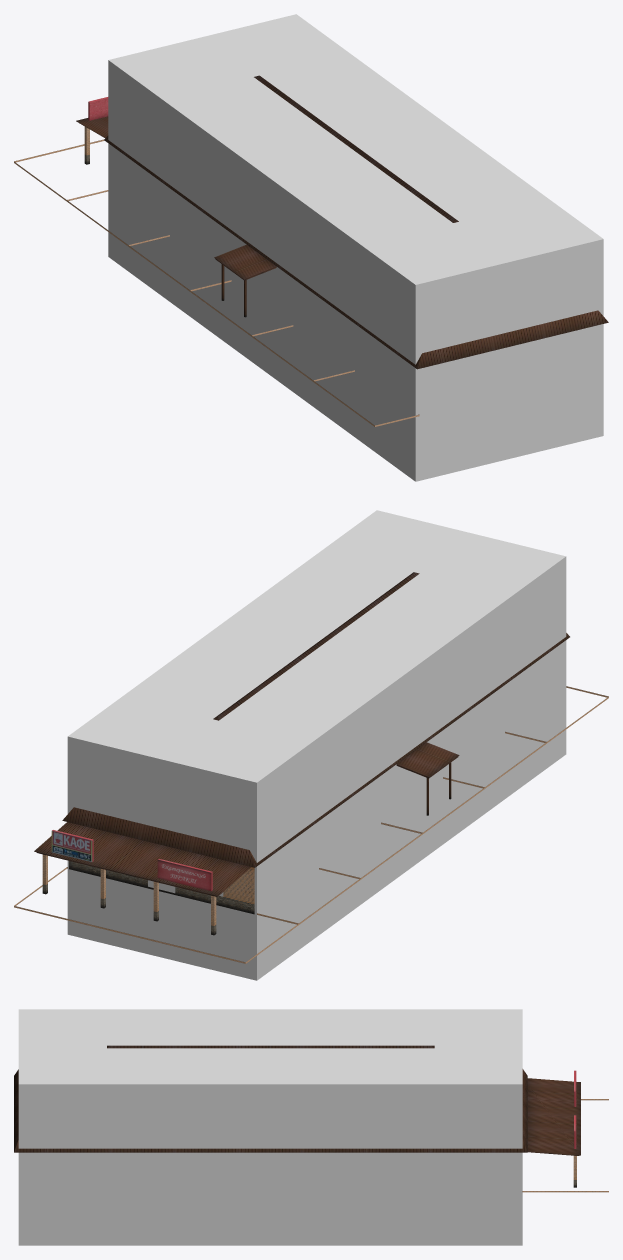
The model's file is motel.fbx.
3 views of the same model, one above another, from view 1: azimuth 30°, elevation 25°; view 2: azimuth 150°, elevation 25°; view 3: azimuth 270°, elevation 25° (orthographic). The views are drawn at different scales.
Visible parts, largest first — view 1: Cube.001, Box001; view 2: Cube.001, Box001; view 3: Cube.001, Box001.
Boxes of the visible parts, left/top/right/bottom form: Cube.001: left=108, top=14, right=603, bottom=481; Box001: left=14, top=75, right=608, bottom=426; Cube.001: left=67, top=510, right=566, bottom=980; Box001: left=14, top=572, right=608, bottom=963; Cube.001: left=18, top=1009, right=522, bottom=1245; Box001: left=14, top=1045, right=608, bottom=1192.
Bounding box in the file's own units: 8903 × 7283 × 24111.
